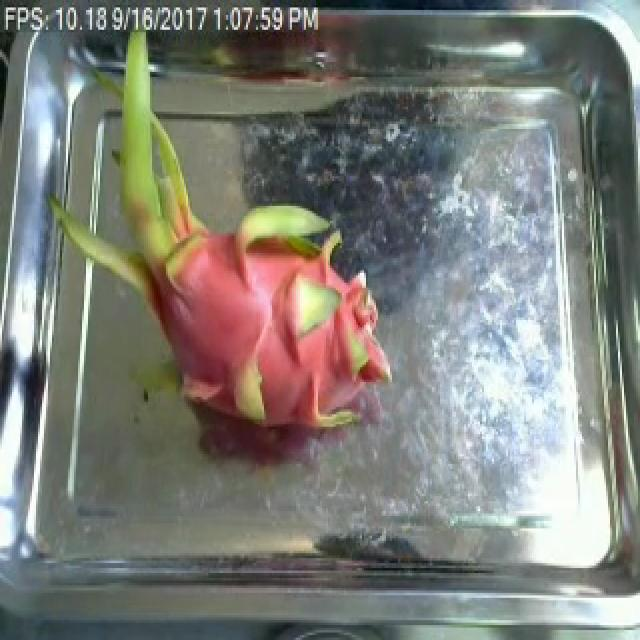fruit: (18, 74, 400, 484)
